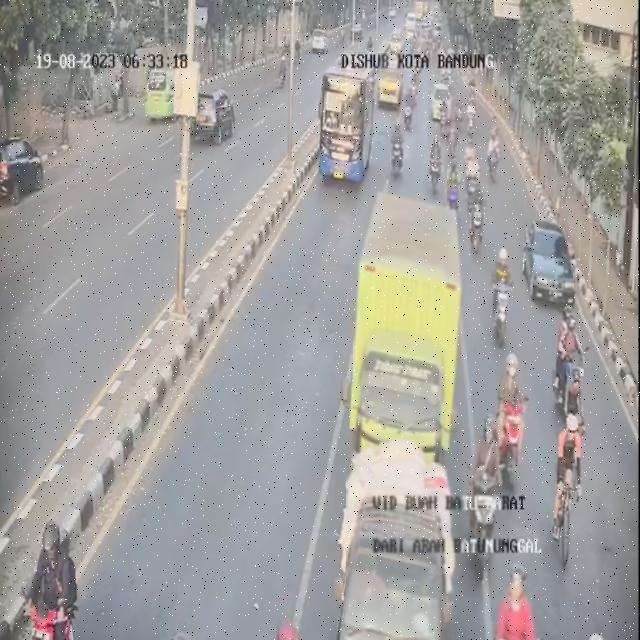bus: (321, 69, 371, 185)
cars: (346, 441, 466, 640), (526, 217, 573, 301), (432, 83, 451, 125), (422, 8, 434, 32)
motorcycle: (29, 519, 84, 640), (471, 410, 509, 570), (545, 416, 585, 566), (493, 352, 528, 479), (552, 310, 588, 426), (497, 556, 547, 638), (489, 242, 517, 348), (257, 611, 320, 640), (469, 179, 492, 253), (428, 135, 446, 198), (391, 118, 408, 180), (485, 124, 502, 182), (462, 144, 478, 202), (573, 622, 621, 640), (448, 160, 463, 207), (450, 96, 465, 142), (445, 100, 460, 146), (402, 90, 417, 132), (463, 97, 477, 136)
truck: (353, 184, 467, 462), (378, 53, 403, 105)
